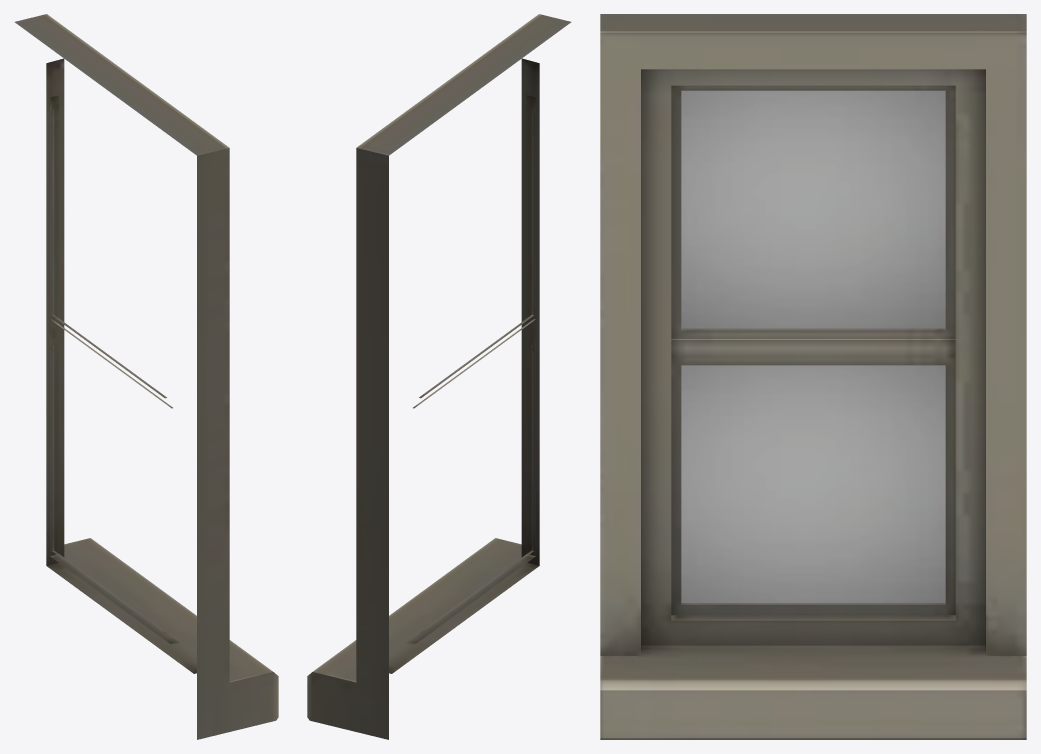
3 views of the same model, side by side, from view 1: azimuth 30°, elevation 25°; view 2: azimuth 150°, elevation 25°; view 3: azimuth 270°, elevation 25° (orthographic). The views are drawn at different scales.
Visible parts, largest first — view 1: body0_model0_lod0_mesh0; view 2: body0_model0_lod0_mesh0; view 3: body0_model0_lod0_mesh0.
Boxes of the visible parts, left/top/right/bottom form: body0_model0_lod0_mesh0: left=14, top=14, right=278, bottom=739; body0_model0_lod0_mesh0: left=307, top=14, right=571, bottom=739; body0_model0_lod0_mesh0: left=600, top=14, right=1026, bottom=739.
Size of the model in its own units: 8.12 by 55.5 by 31.5.
1 material, 1 textured.
